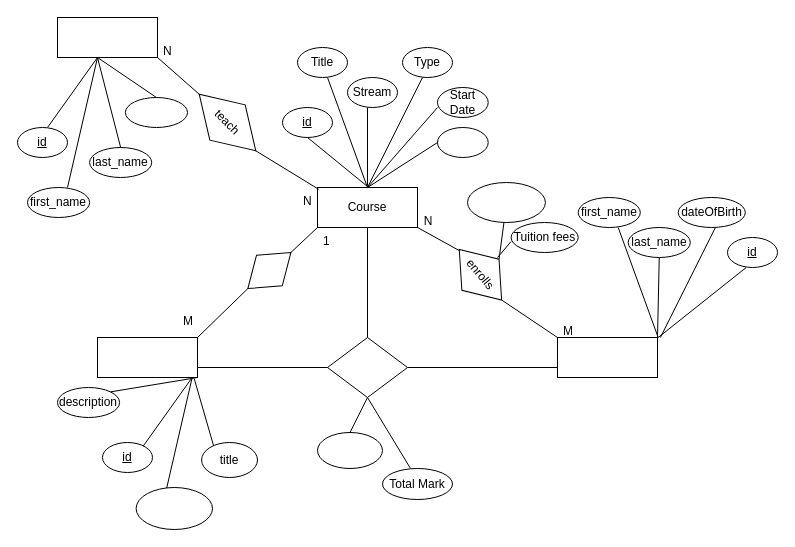
Image size: 795x547. Some labels were removed from this diagram. Each missing label, with the centre of its shape:
Assignment: [147,357]
End Date: [462,142]
Enrollment Date: [505,202]
Has: [269,270]
marked: [367,367]
Oral Mark: [349,450]
Student: [607,357]
subject: [156,112]
Sumbission Date: [173,508]
Trainer: [107,37]
